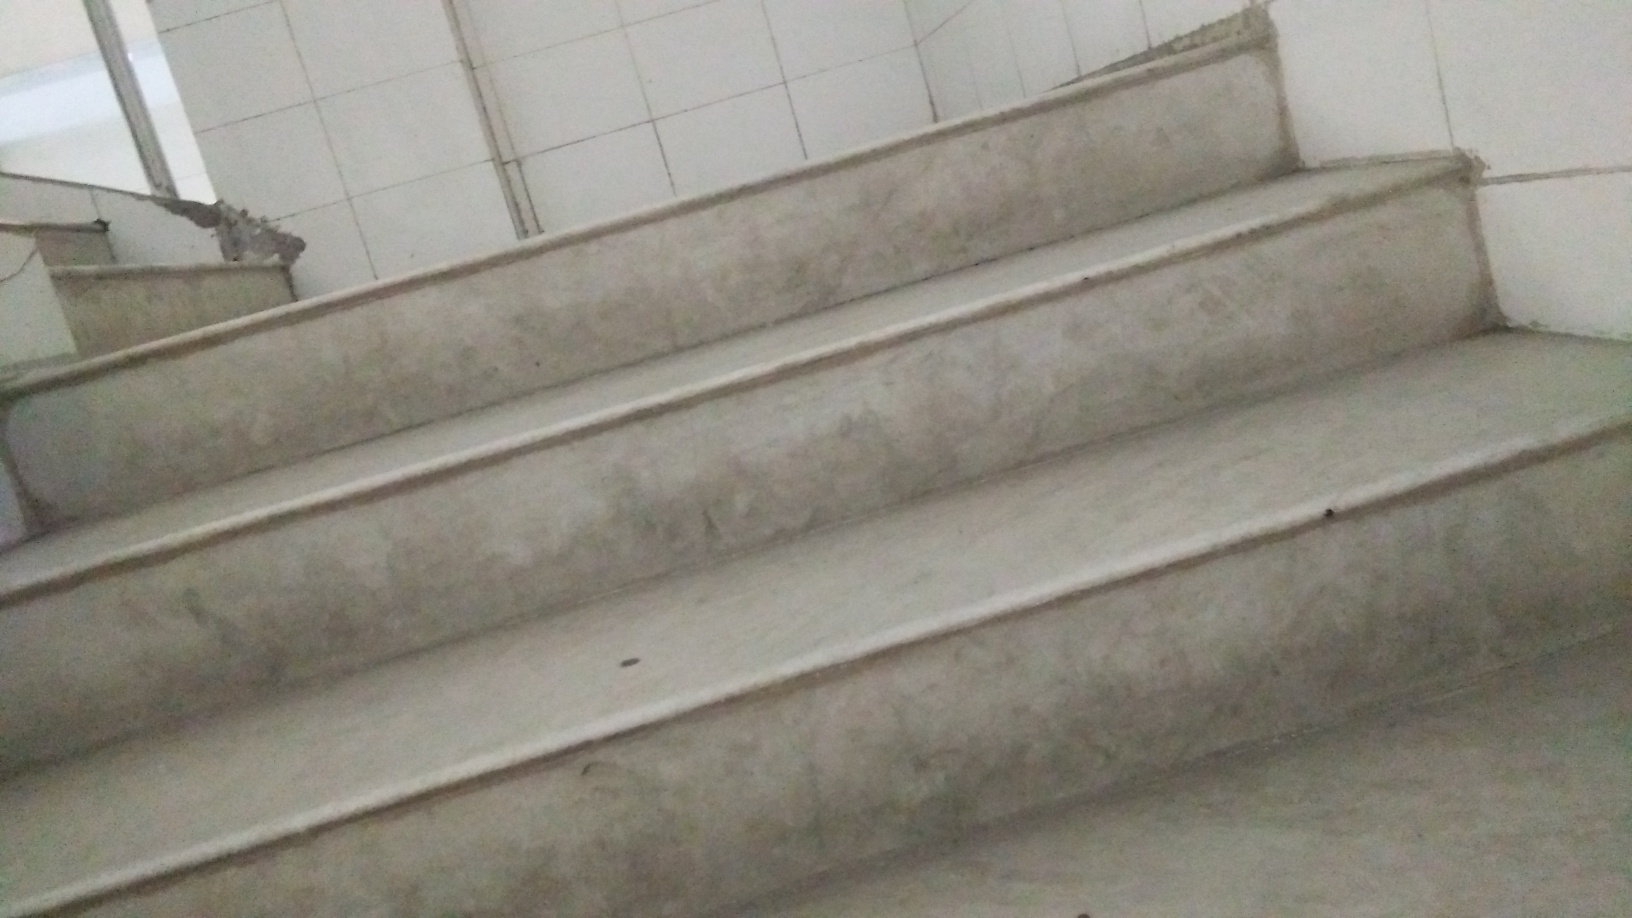stairs_up: (1, 224, 1607, 840)
